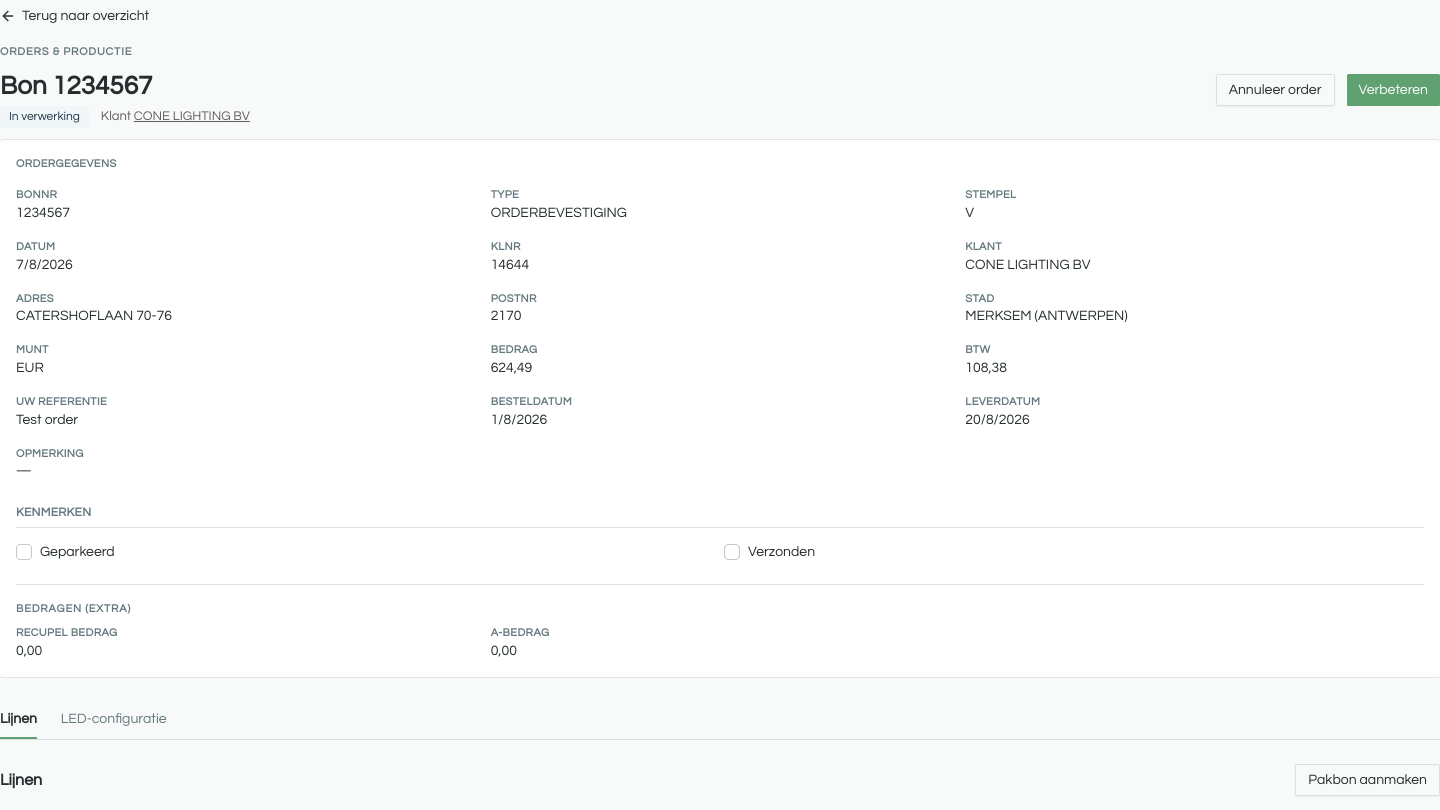
Test case: BonDetailPage › annuleer order › on 409 refetches bon and lijnen, shows the fresh stempel and disables the button
Click the button "Annuleer order": (1275, 90) [1216, 74, 1334, 106]
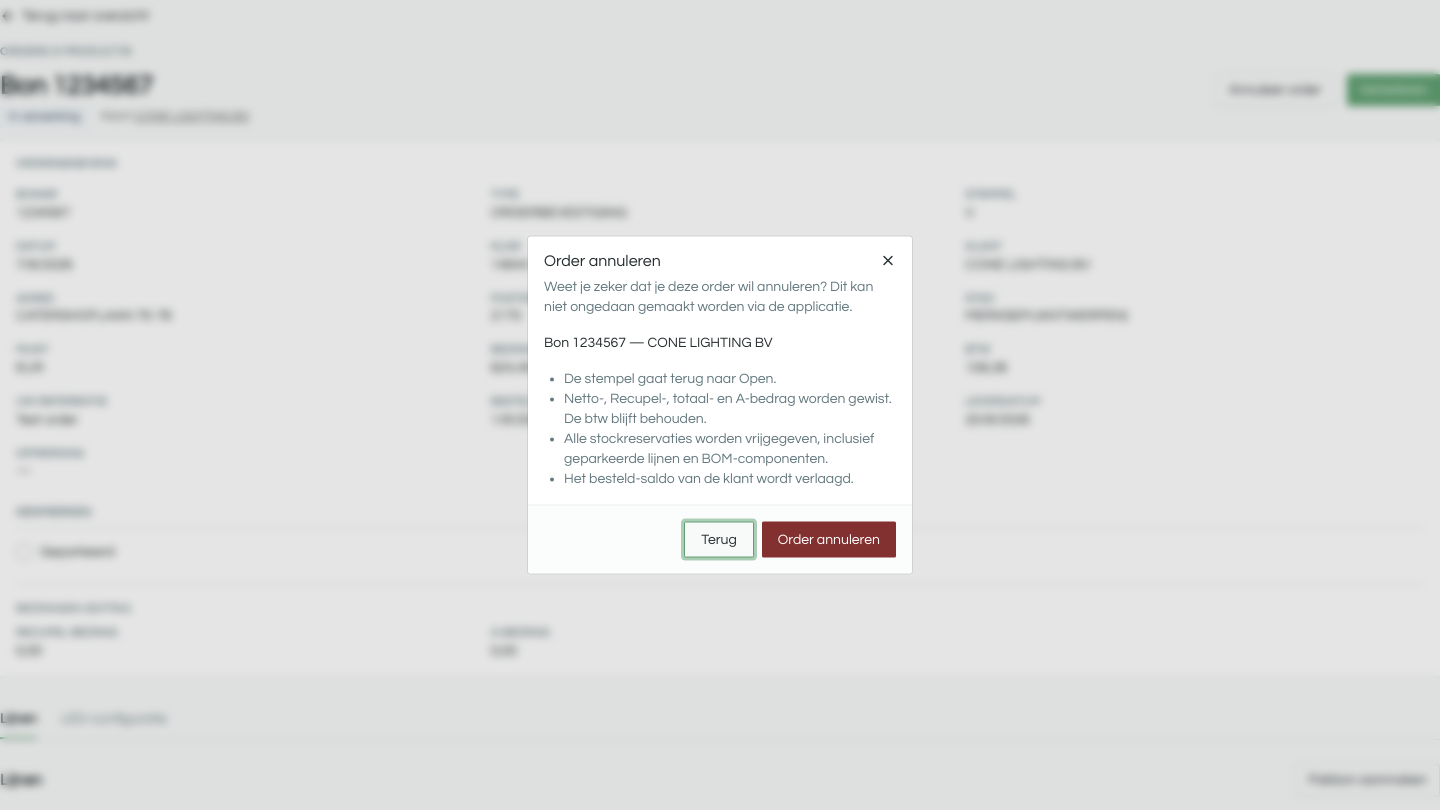
Click the button "Order annuleren": (829, 540) [762, 522, 896, 558]
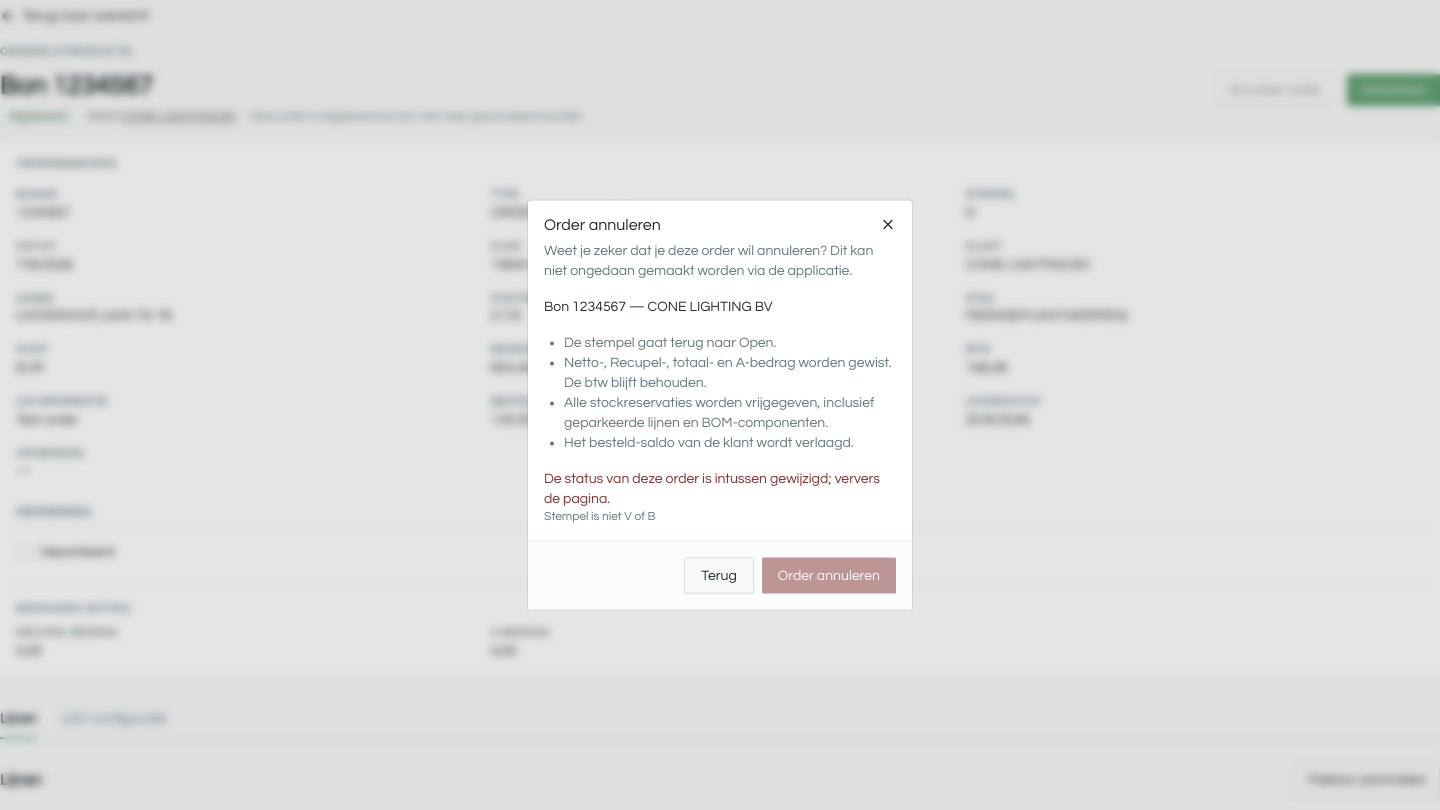
Expected: the text "Afgeleverd" is shown, [0, 106, 76, 128]
Expected: the text "De status van deze order is intussen gewijzigd; ververs de pagina." is shown, [544, 468, 896, 508]
